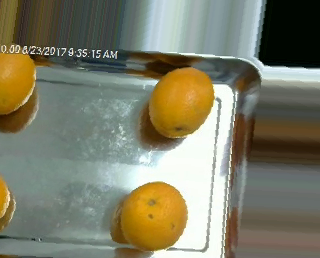Orange: (148, 67, 214, 138), (120, 181, 188, 249)
